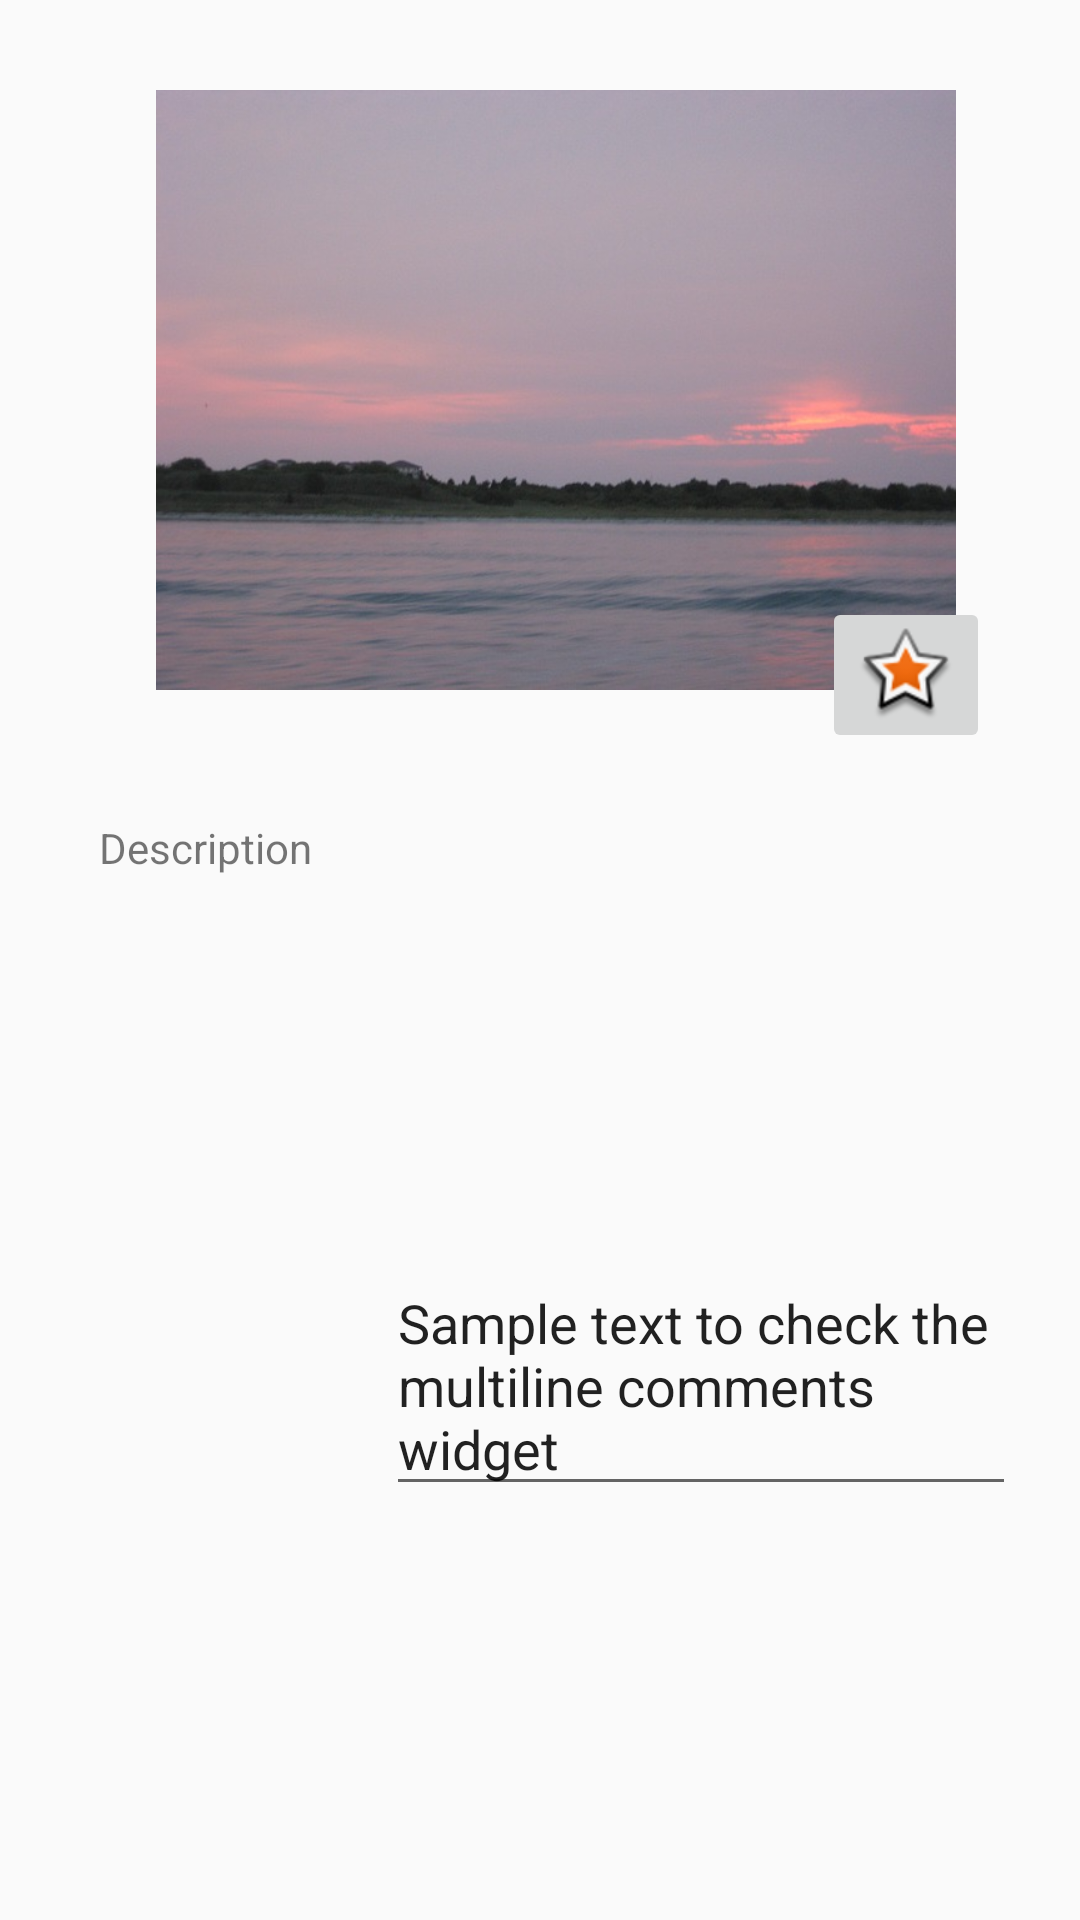

Where to tap for icons on this 1080*1920 app screen, as point (x, y):
star on: point (900, 666)
